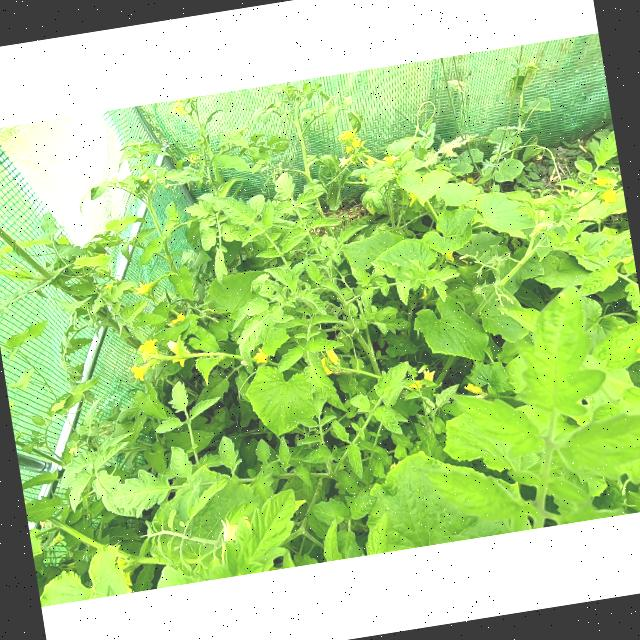Flowers: (166, 334, 197, 368), (220, 518, 252, 544), (408, 368, 439, 392), (318, 346, 342, 376), (136, 339, 160, 357), (132, 280, 156, 296), (464, 379, 484, 396), (168, 100, 188, 117), (254, 348, 272, 365), (130, 365, 146, 383), (338, 155, 359, 168), (602, 189, 619, 205), (338, 130, 354, 146), (352, 135, 364, 153), (384, 158, 400, 166)
